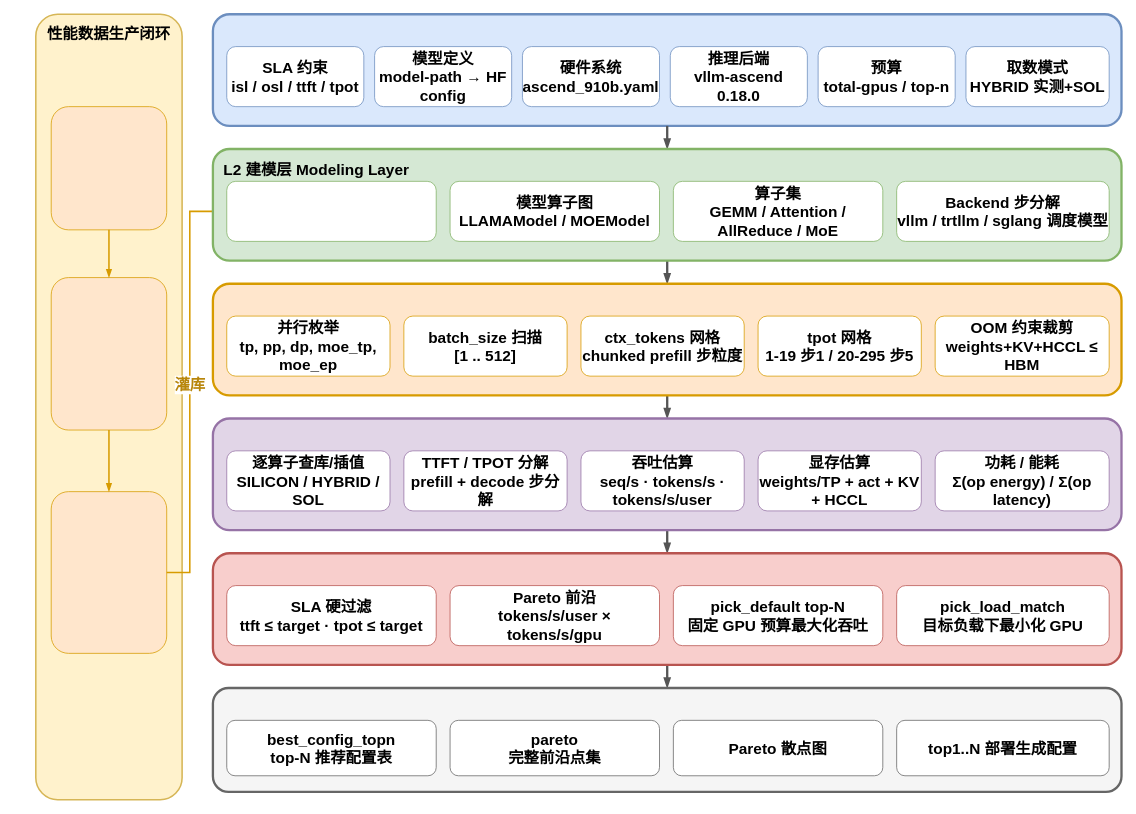
Image size: 1136x814. Some labels were removed from this diagram. The box of each missing label's shape, as (x1, y1, x2, y2) in pixels:
collector/ 真机算子采集 GEMM·Attn·MoE·MLA: (50, 106, 167, 230)
L1 输入层 Input Layer: (211, 13, 1122, 127)
L3 搜索层 Search Layer: (211, 282, 1122, 396)
L4 估算层 Estimation Layer: (211, 417, 1122, 531)
L5 选型层 Selection Layer: (211, 552, 1122, 666)
PerfDatabase 性能库 gemm / attn / moe / nccl 插值表: (226, 181, 436, 241)
systems/data/ 算子性能数据库 gemm/attn/moe/nccl 表: (50, 491, 167, 653)
tools/ 格式转换与校验 convert_to_aiconfigurator: (50, 277, 167, 430)
输出层 Output Layer: (211, 686, 1122, 793)
